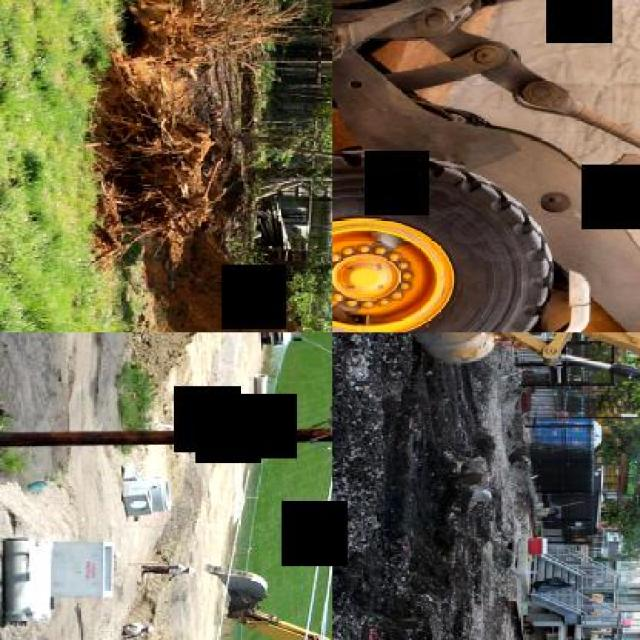buldozerpayloadergrader: (332, 0, 638, 331)
excavator: (402, 332, 638, 423), (100, 562, 331, 638)
